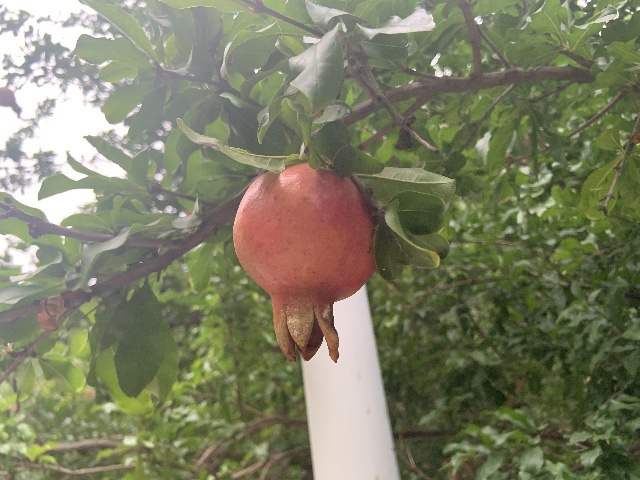ripe: (233, 163, 377, 363)
